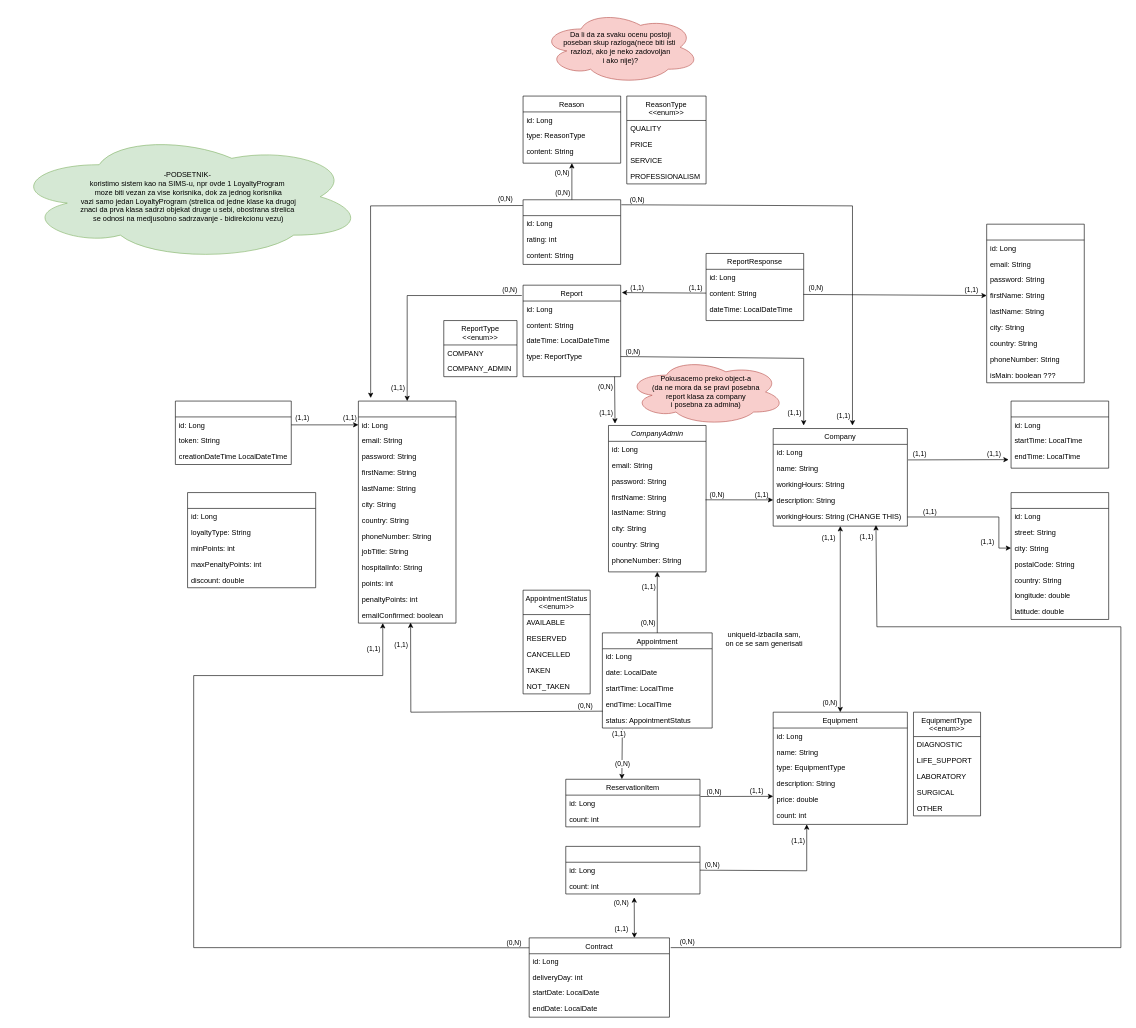
Some shapes in this 1136 by 1028 pixel diagram are drawn without their labels. The box of each missing label's shape, as (x1, y1, x2, y2) in pixels:
ContractItem: (565, 846, 700, 894)
EmailToken: (175, 400, 291, 465)
Location: (1010, 492, 1109, 619)
LoyaltyProgram: (187, 492, 316, 588)
Review: (522, 199, 621, 264)
SystemAdmin: (986, 224, 1084, 383)
User: (358, 400, 456, 623)
WorkingHours: (1010, 400, 1109, 468)
